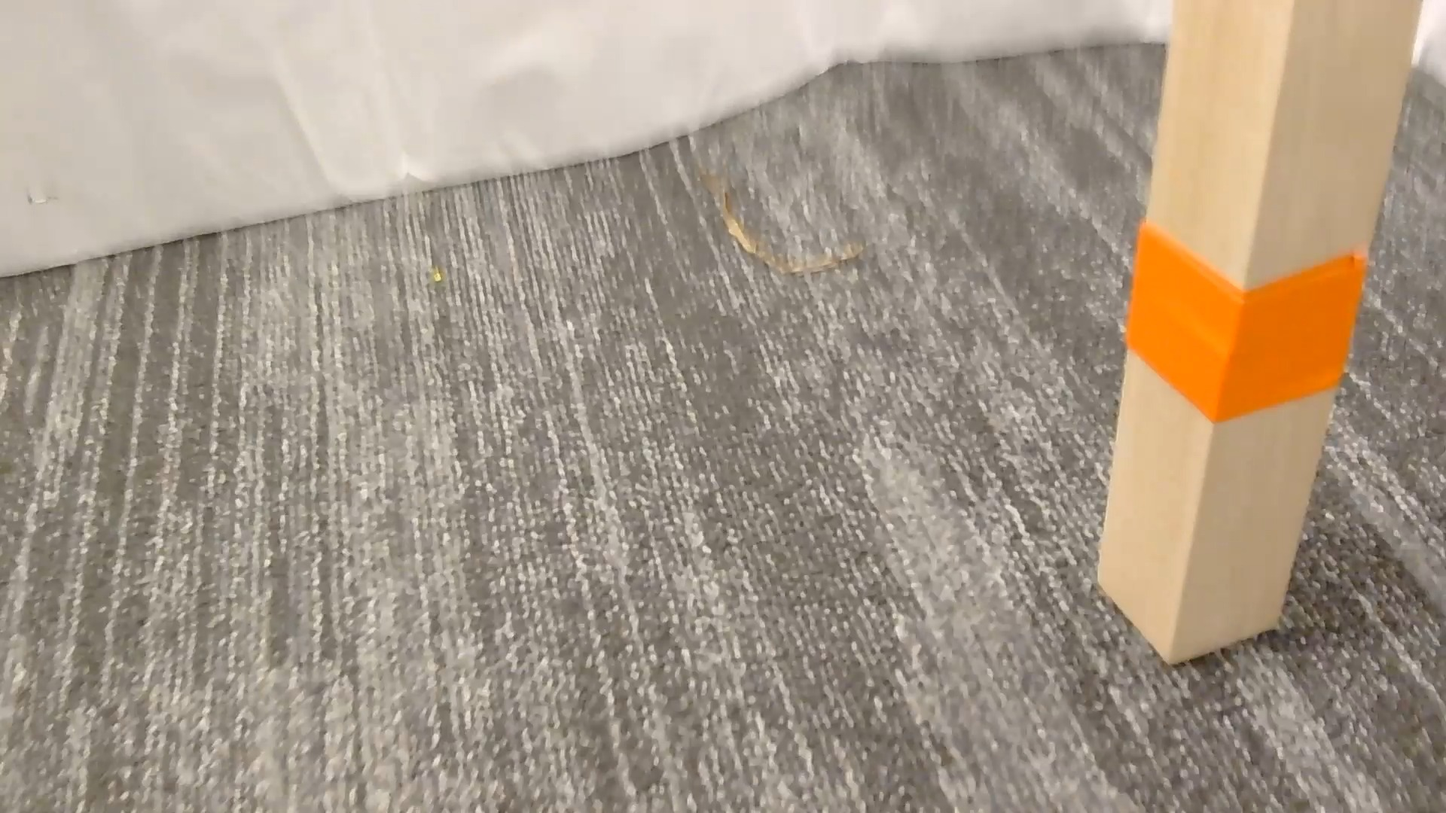Wooden Block: (1097, 0, 1422, 662)
